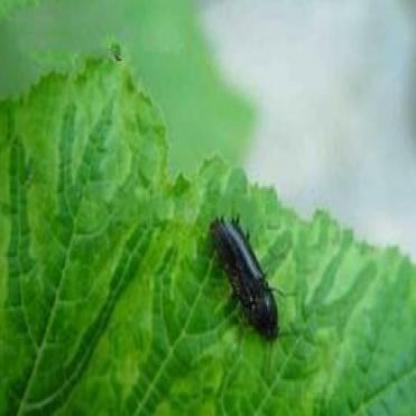armyworm: (209, 210, 284, 345)
